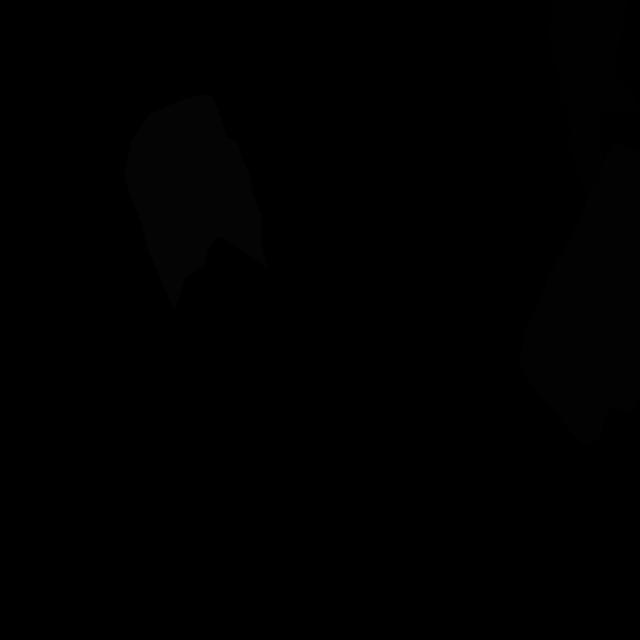cardboard: (519, 141, 640, 446)
rigid_plastic: (548, 0, 640, 199)
soft_plastic: (124, 95, 268, 311)
